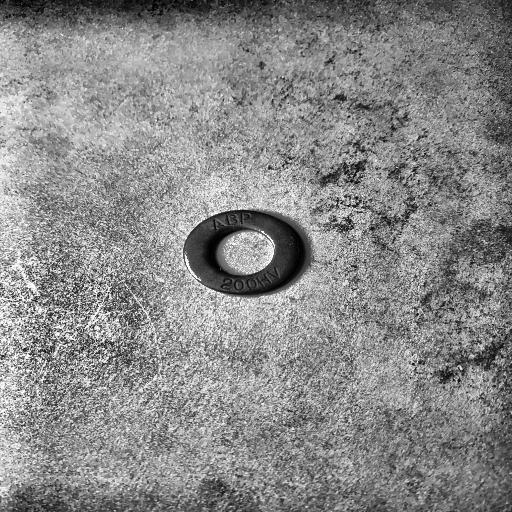Washer: (183, 208, 309, 296)
